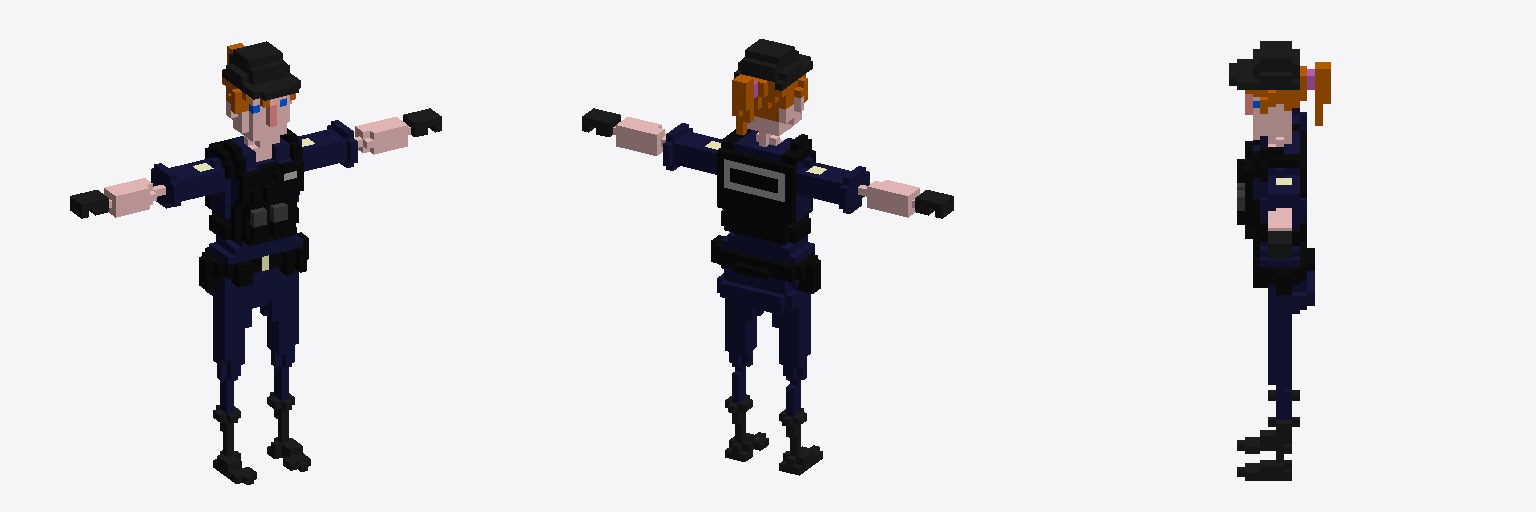
3 renders of one model, left to right at view 1: azimuth 30°, elevation 25°; view 2: azimuth 150°, elevation 25°; view 3: azimuth 270°, elevation 25°, orthographic.
Visible parts, largest first — view 1: object 1; view 2: object 1; view 3: object 1.
Part boxes in pixels (left/top/right/bottom): object 1: left=70, top=41, right=441, bottom=484; object 1: left=582, top=39, right=953, bottom=475; object 1: left=1229, top=41, right=1330, bottom=480.
Bounding box in the file's own units: 5.3 × 5.8 × 1.3.
Materials: 1 (1 with a texture image).